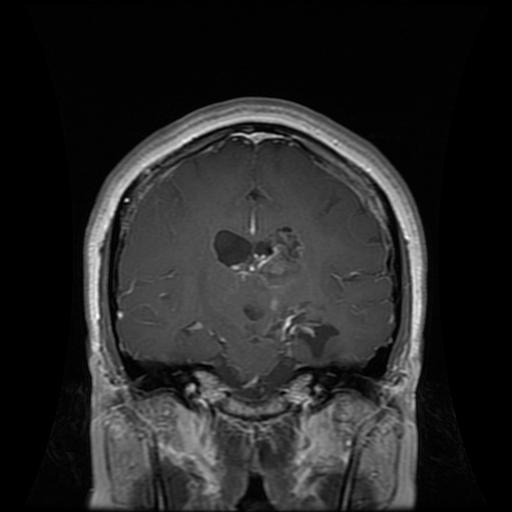Gliomia_tumour: (210, 226, 307, 279)
